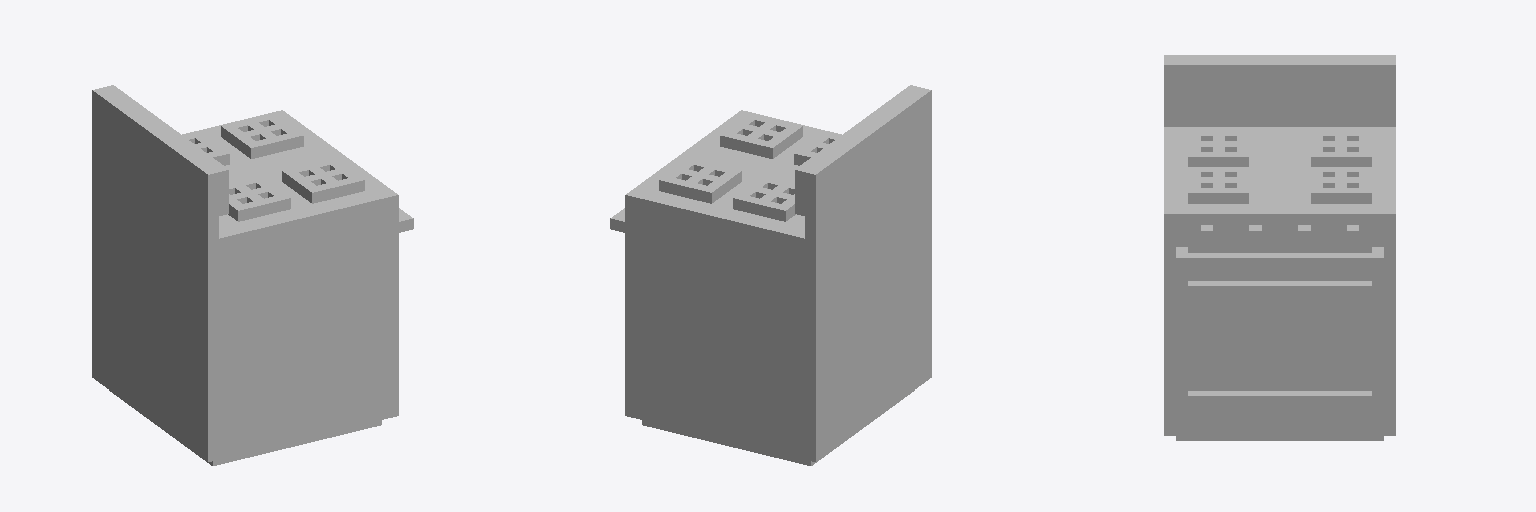
Rendered from Stove2.obj.
The picture shows the model from 3 angles: view 1: azimuth 30°, elevation 25°; view 2: azimuth 150°, elevation 25°; view 3: azimuth 270°, elevation 25°; orthographic projection.
Visible parts, largest first — view 1: object 1; view 2: object 1; view 3: object 1.
Boxes of the visible parts, <box> form: object 1: <box>92,85,413,465</box>; object 1: <box>610,85,931,465</box>; object 1: <box>1164,55,1395,440</box>.
Size of the model in its own units: 4 by 5.4 by 3.8.